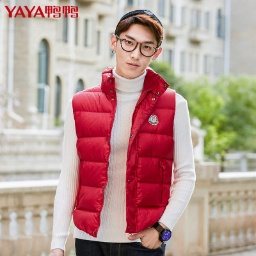face: (108, 10, 165, 79)
